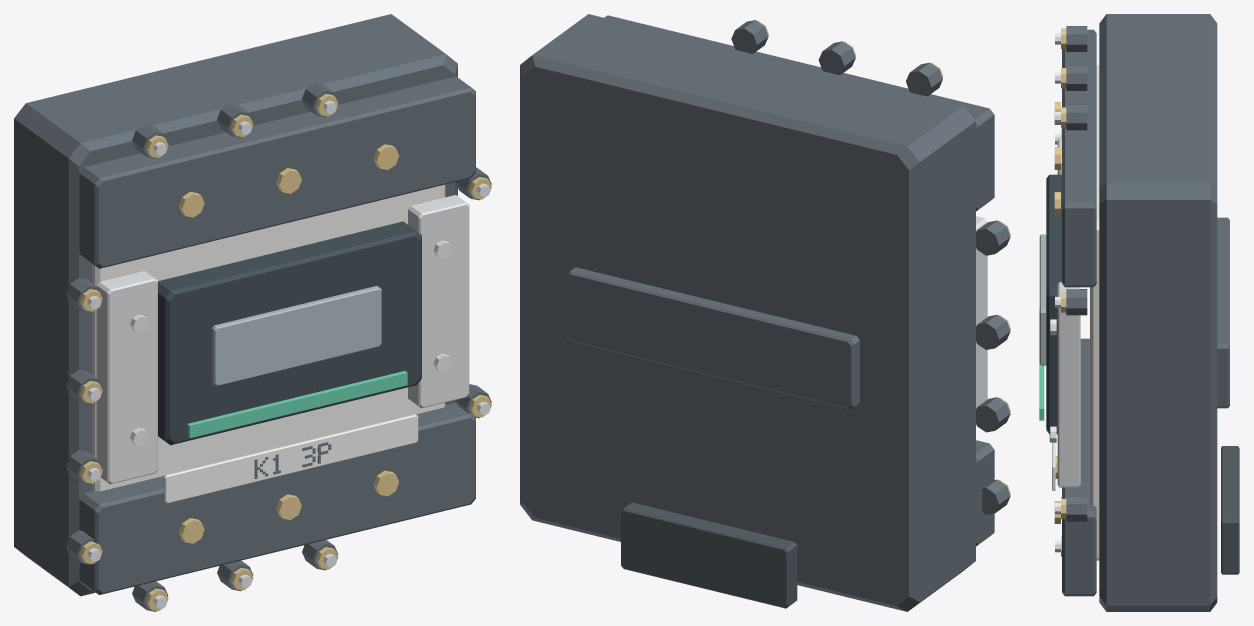
File: contactor.glb
3 renders of one model, left to right at view 1: azimuth 30°, elevation 25°; view 2: azimuth 150°, elevation 25°; view 3: azimuth 270°, elevation 25°, orthographic. The views are drawn at different scales.
Parts seen in each view (by area): view 1: contactor-board; view 2: contactor-board; view 3: contactor-board.
Boxes of the visible parts, x1,y1,x2,y2 form: contactor-board: (14, 14, 491, 611); contactor-board: (520, 14, 1010, 611); contactor-board: (1039, 14, 1239, 611).
Size of the model in its own units: 3.15 by 3.48 by 1.39.
